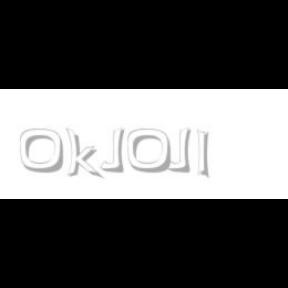J: (100, 128, 124, 172), (166, 128, 190, 172)
O: (20, 128, 64, 174), (128, 128, 172, 174)
k: (65, 128, 103, 180)
l: (197, 128, 213, 180)
